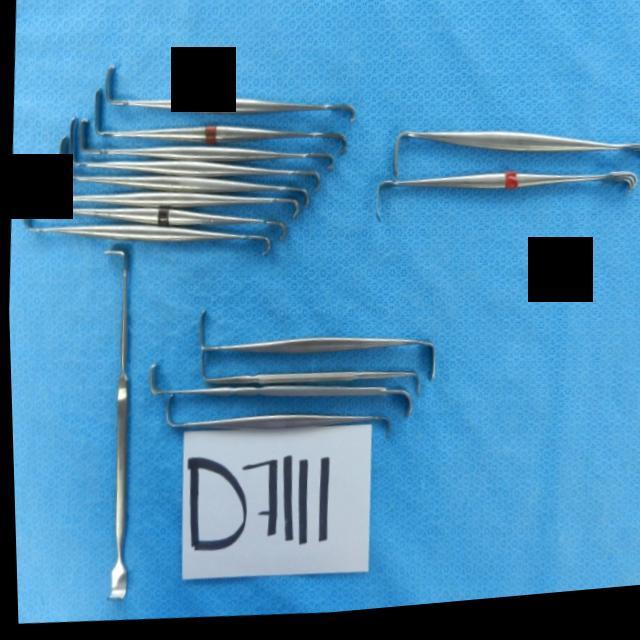Senn Retractor: (60, 93, 334, 217), (43, 121, 314, 245), (31, 142, 295, 269), (180, 292, 454, 408), (141, 342, 416, 446), (18, 176, 278, 286), (98, 43, 364, 148), (92, 72, 354, 177), (74, 94, 340, 194), (369, 159, 640, 254), (384, 98, 640, 196), (82, 241, 148, 603), (157, 374, 400, 464), (176, 336, 432, 419)
